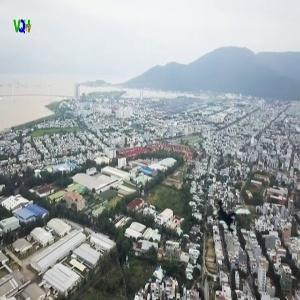drone: (209, 193, 259, 243)
